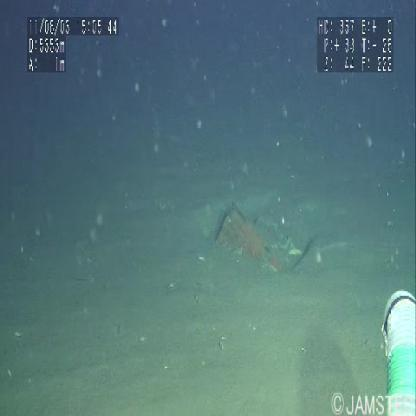Rác: (217, 208, 264, 252)
